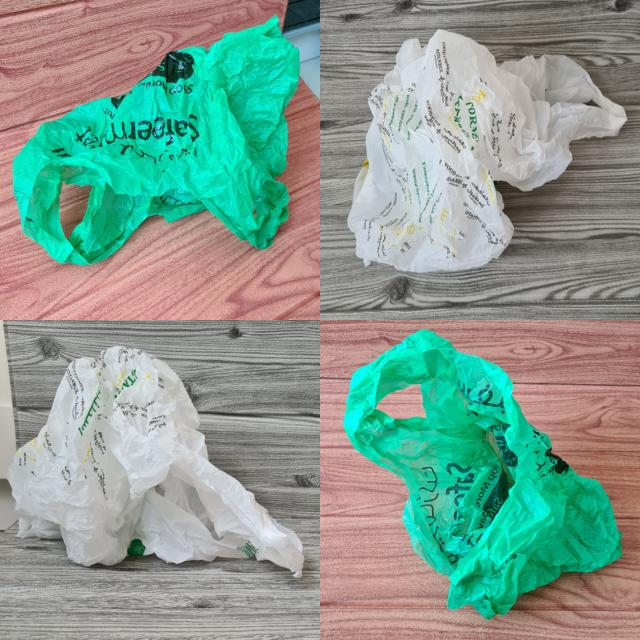Single-layer Plastic: (344, 330, 621, 619), (15, 18, 296, 264), (8, 346, 304, 578), (349, 30, 625, 272)
